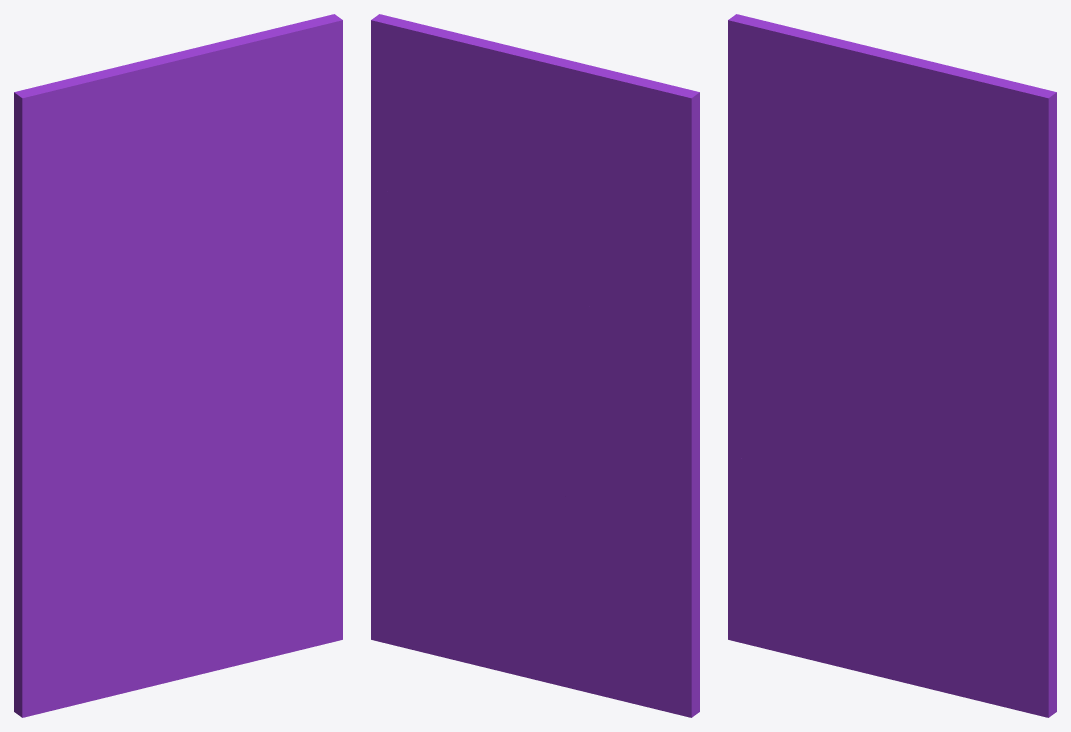
The model's file is Glass_55_chunks.fbx.
The picture shows the model from 3 angles, left to right: view 1: azimuth 30°, elevation 25°; view 2: azimuth 150°, elevation 25°; view 3: azimuth 330°, elevation 25°; orthographic projection.
Parts seen in each view (by area): view 1: Glass_55_1, Glass_55_3, Glass_55_5, Glass_55_4, Glass_55_10, Glass_55_7, Glass_55_12, Glass_55_6, Glass_55_11, Glass_55_9, Glass_55_0, Glass_55_8; view 2: Glass_55_1, Glass_55_5, Glass_55_3, Glass_55_12, Glass_55_10, Glass_55_7, Glass_55_0, Glass_55_4, Glass_55_6, Glass_55_9, Glass_55_11, Glass_55_2; view 3: Glass_55_1, Glass_55_3, Glass_55_5, Glass_55_10, Glass_55_4, Glass_55_12, Glass_55_7, Glass_55_6, Glass_55_11, Glass_55_9, Glass_55_8, Glass_55_0.
Part boxes in pixels (box(x1,y1,x2,y2)): Glass_55_1: box(14, 513, 251, 717); Glass_55_3: box(180, 397, 342, 661); Glass_55_5: box(14, 40, 241, 243); Glass_55_4: box(14, 368, 241, 531); Glass_55_10: box(187, 257, 342, 448); Glass_55_7: box(14, 195, 122, 416); Glass_55_12: box(226, 14, 342, 223); Glass_55_6: box(115, 189, 217, 401); Glass_55_11: box(256, 126, 342, 288); Glass_55_9: box(194, 137, 257, 324); Glass_55_0: box(14, 368, 133, 499); Glass_55_8: box(16, 164, 138, 265); Glass_55_1: box(461, 512, 699, 717); Glass_55_5: box(480, 38, 699, 258); Glass_55_3: box(371, 399, 530, 661); Glass_55_12: box(371, 14, 497, 251); Glass_55_10: box(371, 249, 531, 453); Glass_55_7: box(587, 200, 699, 409); Glass_55_0: box(526, 348, 699, 506); Glass_55_4: box(478, 374, 699, 525); Glass_55_6: box(507, 203, 592, 357); Glass_55_9: box(461, 150, 527, 324); Glass_55_11: box(371, 172, 436, 273); Glass_55_2: box(482, 407, 579, 517); Glass_55_1: box(728, 453, 956, 695); Glass_55_3: box(886, 426, 1056, 717); Glass_55_5: box(728, 14, 947, 221); Glass_55_10: box(892, 293, 1056, 526); Glass_55_4: box(728, 370, 947, 511); Glass_55_12: box(932, 65, 1056, 260); Glass_55_7: box(728, 141, 828, 368); Glass_55_6: box(821, 205, 922, 374); Glass_55_11: box(962, 204, 1056, 366); Glass_55_9: box(900, 158, 963, 329); Glass_55_8: box(728, 86, 843, 236); Glass_55_0: box(728, 338, 839, 409).
Size of the model in its own units: 598 by 1104 by 27.2.
